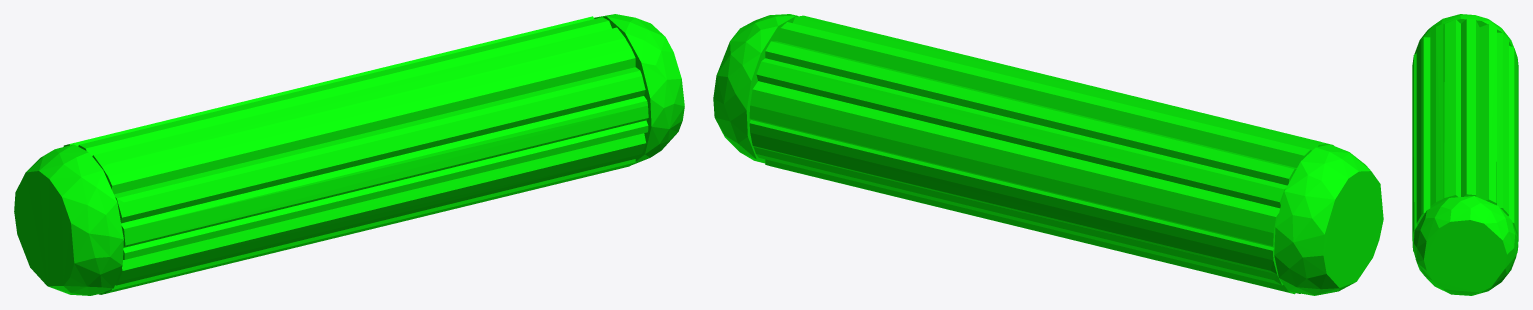
Rendered from plugg_correct.obj.
3 views of the same model, side by side, from view 1: azimuth 30°, elevation 25°; view 2: azimuth 150°, elevation 25°; view 3: azimuth 270°, elevation 25° (orthographic). The views are drawn at different scales.
Bounding box in the file's own units: 101 × 22.27 × 22.27.
